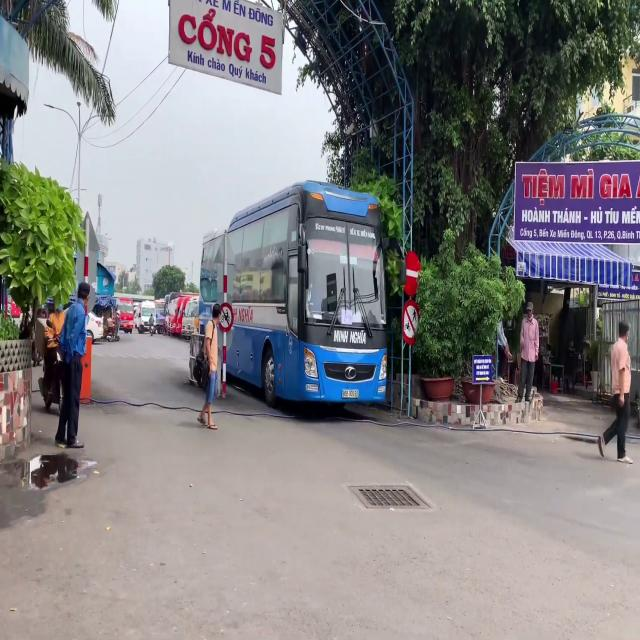bien_trang: (343, 386, 359, 401)
